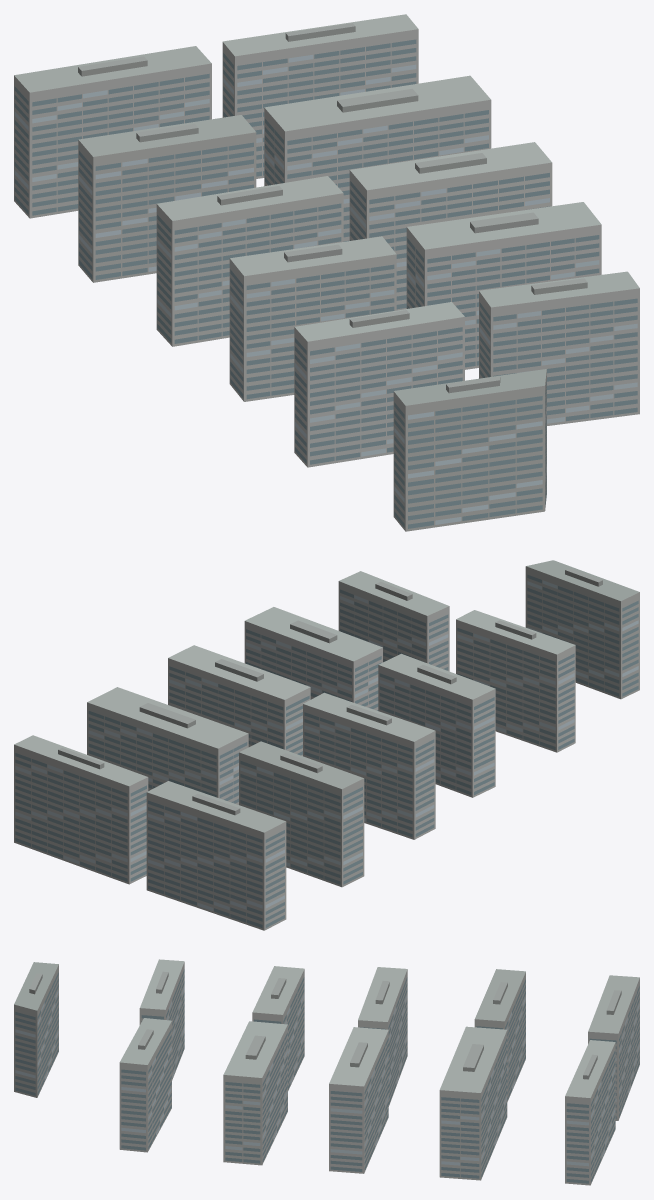
File: apt-a13204408.glb
3 renders of one model, top to bottom at view 1: azimuth 30°, elevation 25°; view 2: azimuth 150°, elevation 25°; view 3: azimuth 270°, elevation 25°, orthographic. The views are drawn at different scales.
Visible parts, largest first — view 1: apt-a13204408; view 2: apt-a13204408; view 3: apt-a13204408.
Boxes of the visible parts, box(x1,y1,x2,y2) form: apt-a13204408: box(14, 14, 639, 531); apt-a13204408: box(14, 560, 639, 930); apt-a13204408: box(14, 959, 639, 1185).
Bounding box in the file's own units: 156 × 47.81 × 297.
